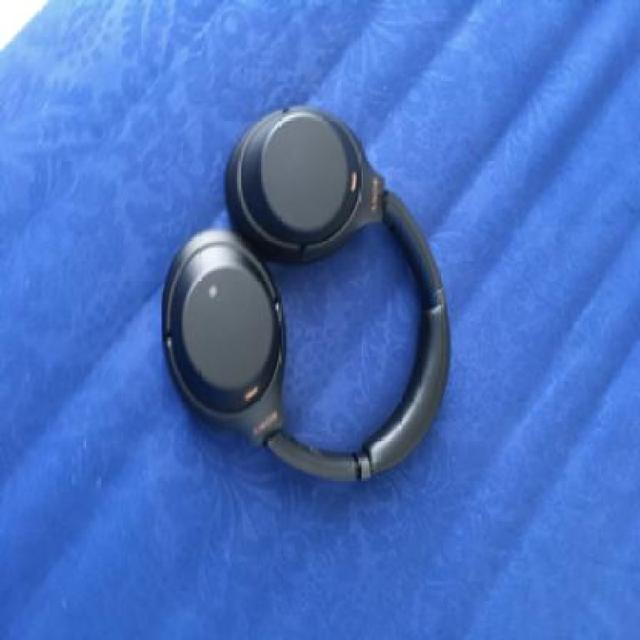earphone: (125, 33, 478, 517)
